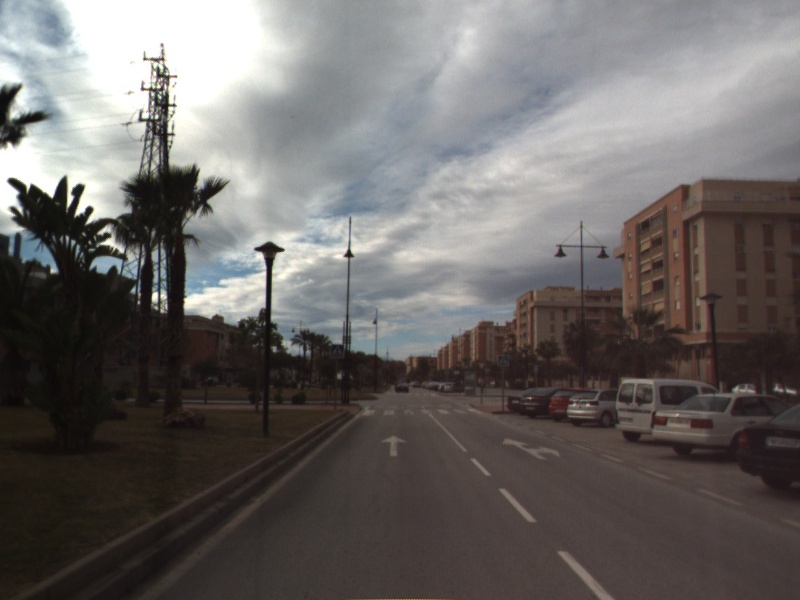STRAIGHT: (379, 433, 409, 458)
STRAIGHT_RIGHT: (501, 436, 562, 461)
